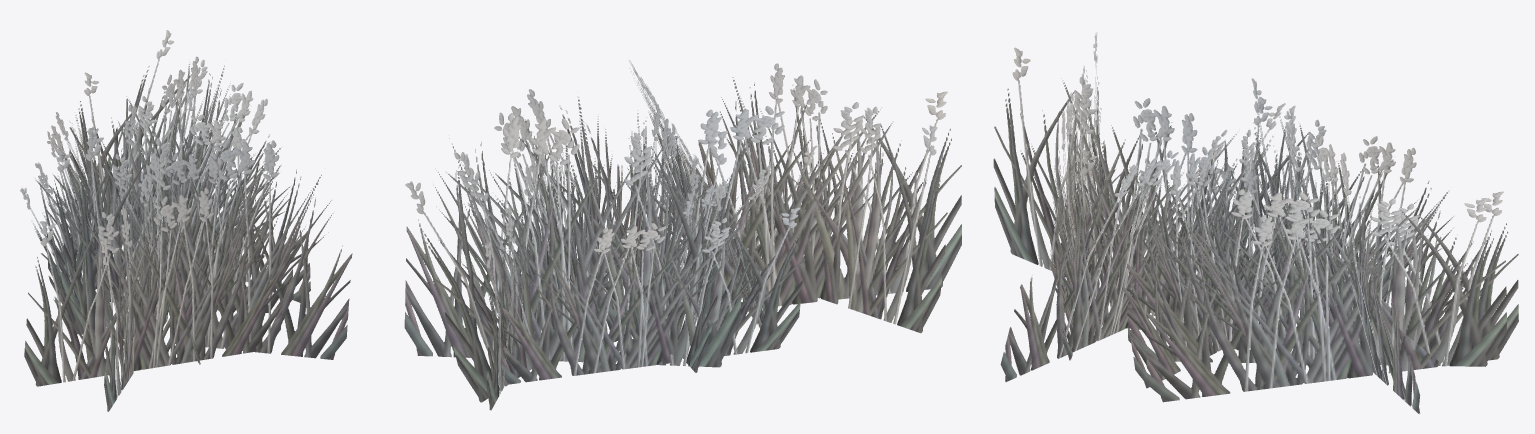
Rendered from grass_seed_l0.gltf.
3 views of the same model, side by side, from view 1: azimuth 30°, elevation 25°; view 2: azimuth 150°, elevation 25°; view 3: azimuth 270°, elevation 25° (orthographic). The views are drawn at different scales.
Parts seen in each view (by area): view 1: grass_seed_l0; view 2: grass_seed_l0; view 3: grass_seed_l0.
Part boxes in pixels (x1=…): grass_seed_l0: x1=20, y1=30, x2=352, y2=411; grass_seed_l0: x1=404, y1=60, x2=961, y2=410; grass_seed_l0: x1=993, y1=32, x2=1518, y2=413.
Size of the model in its own units: 1.66 by 0.9271 by 1.88.
1 material, 1 textured.
